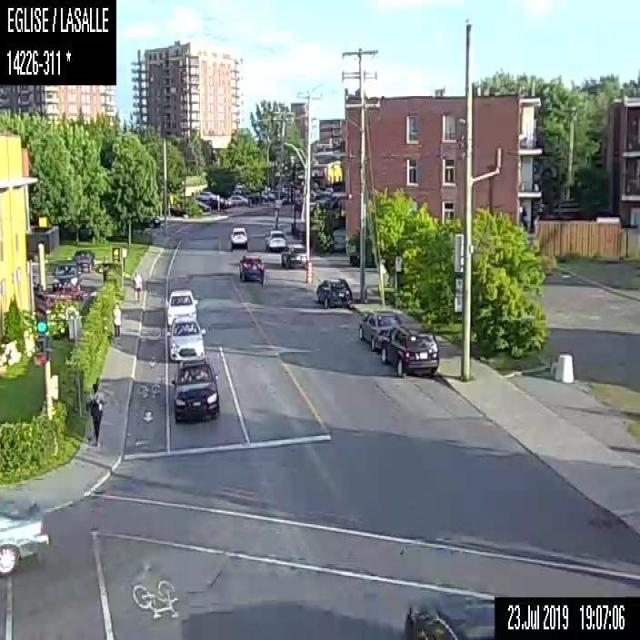pedestrian: (85, 380, 106, 443), (111, 296, 123, 340), (130, 269, 143, 304)
vehicle: (0, 490, 47, 577), (400, 600, 493, 639), (168, 358, 220, 423), (381, 326, 439, 376), (163, 314, 206, 359), (357, 308, 401, 348), (313, 276, 352, 309), (162, 287, 198, 322), (49, 259, 78, 291), (238, 254, 266, 281), (68, 247, 95, 273), (282, 241, 306, 268), (228, 225, 250, 251), (267, 229, 286, 250), (226, 192, 248, 206), (196, 188, 215, 200)
